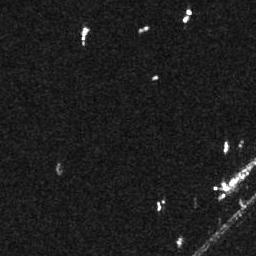ship: (79, 26, 90, 46), (219, 180, 232, 193), (182, 7, 192, 23), (138, 25, 150, 34), (155, 200, 162, 211), (177, 236, 183, 248), (217, 192, 226, 200), (223, 142, 229, 152), (152, 75, 159, 81)
